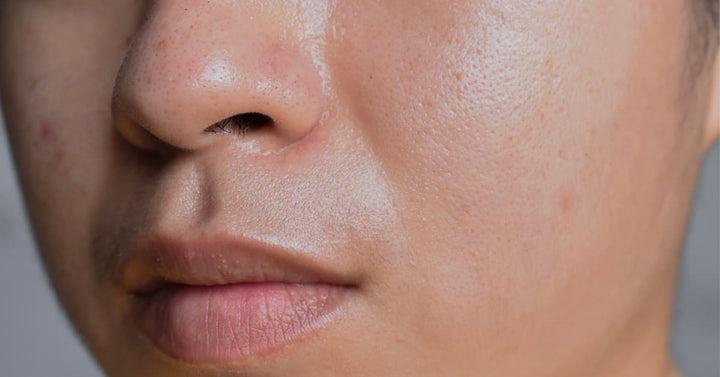Englarged-Pores: (396, 47, 550, 151)
Oily-Skin: (121, 20, 720, 377)
